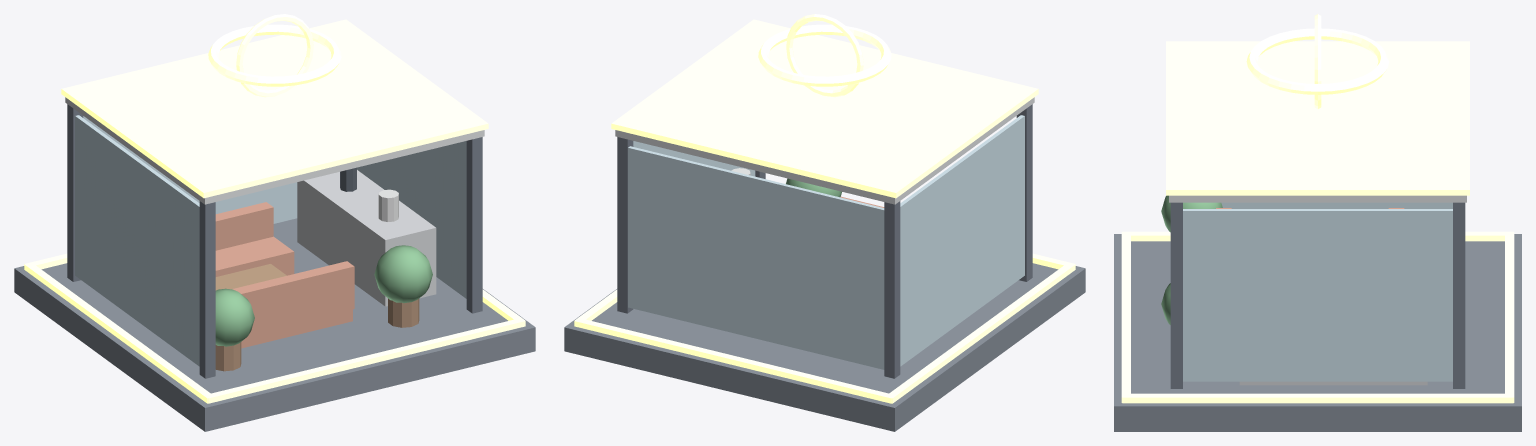
The model's file is staff_lounge.glb.
3 renders of one model, left to right at view 1: azimuth 30°, elevation 25°; view 2: azimuth 150°, elevation 25°; view 3: azimuth 270°, elevation 25°, orthographic. The views are drawn at different scales.
Parts seen in each view (by area): view 1: Cube.006, Cube, Cube.012, Cube.019, Cube.013, Cube.015, Cube.001, Cube.007, Cube.009, Cube.005, Torus, Sphere.001 (+12 smaller); view 2: Cube.011, Cube.006, Cube, Cube.012, Cube.003, Cube.008, Cube.005, Torus, Cube.002, Cube.010, Torus.001, Cube.007 (+1 smaller); view 3: Cube.013, Cube.006, Cube, Cube.004, Torus, Cube.009, Cube.010, Cube.005, Cube.001, Cube.003, Cube.012, Cube.019 (+3 smaller).
Part boxes in pixels (x1,y1,x2,y2): Cube.006: (61, 19, 488, 198); Cube: (14, 218, 535, 431); Cube.012: (75, 115, 199, 366); Cube.019: (297, 170, 436, 306); Cube.013: (357, 141, 466, 298); Cube.015: (232, 261, 354, 334); Cube.001: (204, 319, 525, 403); Cube.007: (199, 201, 215, 378); Cube.009: (466, 137, 482, 313); Cube.005: (65, 97, 484, 204); Torus: (208, 24, 341, 86); Sphere.001: (374, 245, 432, 303); Cube.011: (628, 146, 884, 369); Cube.006: (611, 19, 1038, 198); Cube: (564, 263, 1085, 431); Cube.012: (900, 115, 1024, 366); Cube.003: (574, 319, 895, 403); Cube.008: (884, 201, 900, 378); Cube.005: (615, 97, 1034, 204); Torus: (758, 24, 891, 86); Cube.002: (885, 264, 1075, 403); Cube.010: (617, 137, 633, 313); Torus.001: (786, 14, 863, 97); Cube.007: (1016, 104, 1032, 281); Cube.013: (1183, 209, 1452, 381); Cube.006: (1166, 41, 1469, 195); Cube: (1114, 234, 1521, 431); Cube.004: (1122, 393, 1513, 403); Torus: (1246, 28, 1389, 94); Cube.009: (1170, 202, 1182, 388); Cube.010: (1453, 202, 1465, 388); Cube.005: (1169, 195, 1466, 202); Cube.001: (1121, 232, 1130, 402); Cube.003: (1505, 232, 1514, 402); Cube.012: (1221, 202, 1452, 208); Cube.019: (1239, 381, 1427, 385).
Size of the model in its own units: 2.6 by 2.31 by 2.6.
